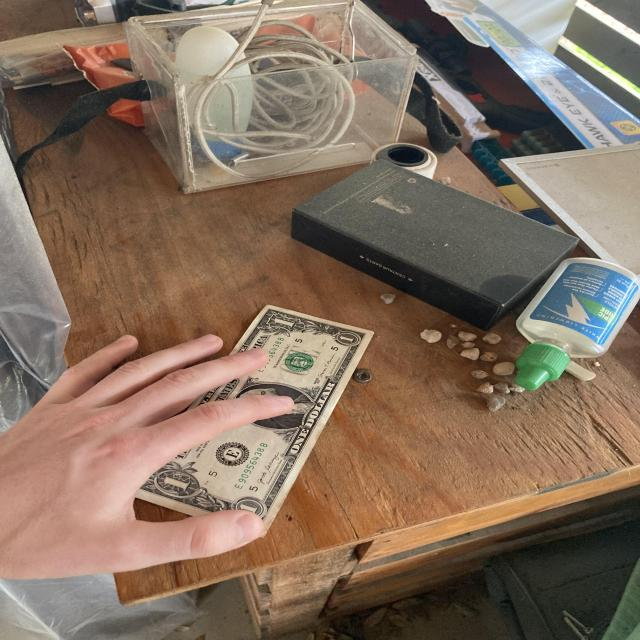one: (128, 265, 377, 562)
